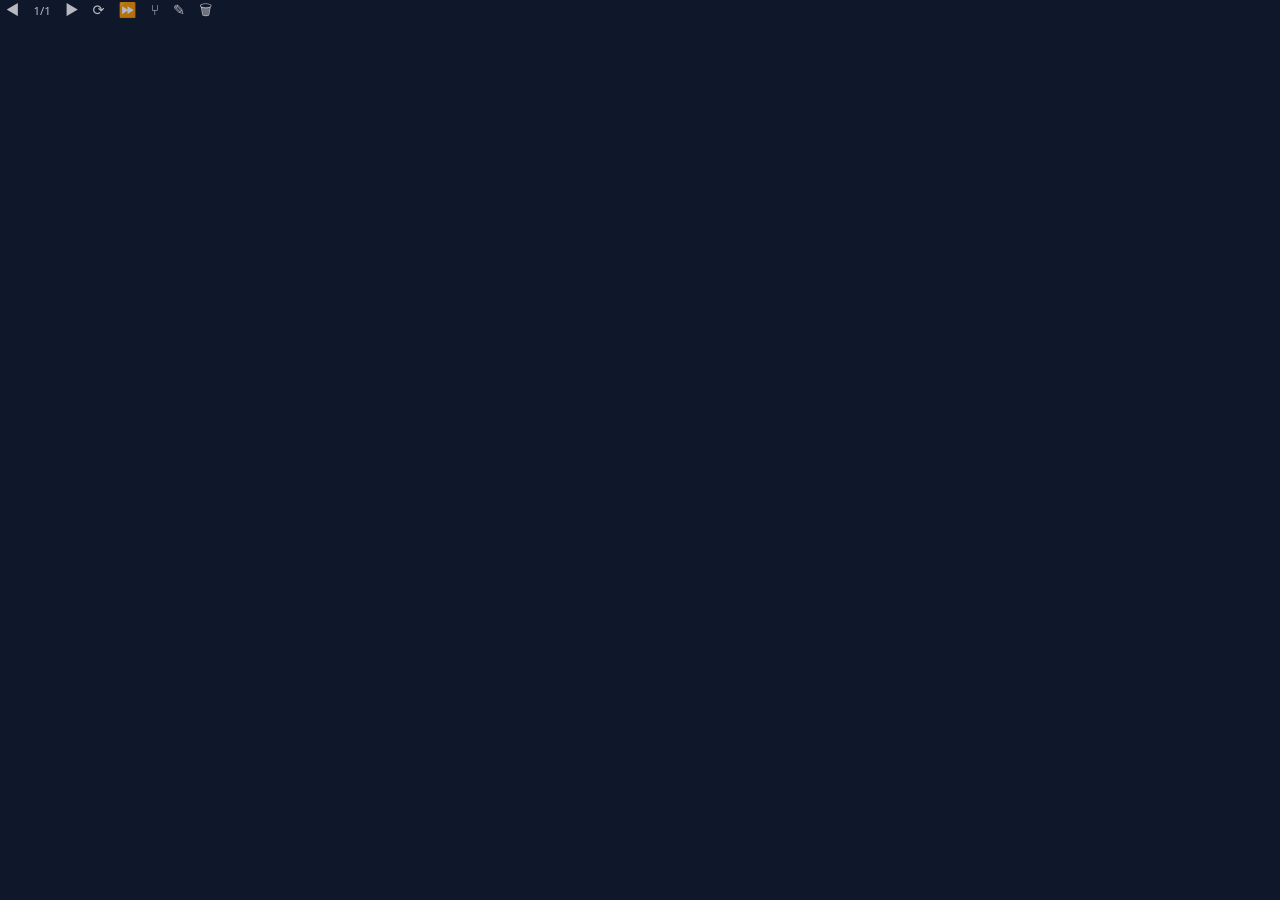
Test: MessageActions regen critique › hides the field until Regen is clicked
The image size is (1280, 900).
Step 1. Click the button titled "Regenerate" → (98, 10), box [86, 1, 110, 19]
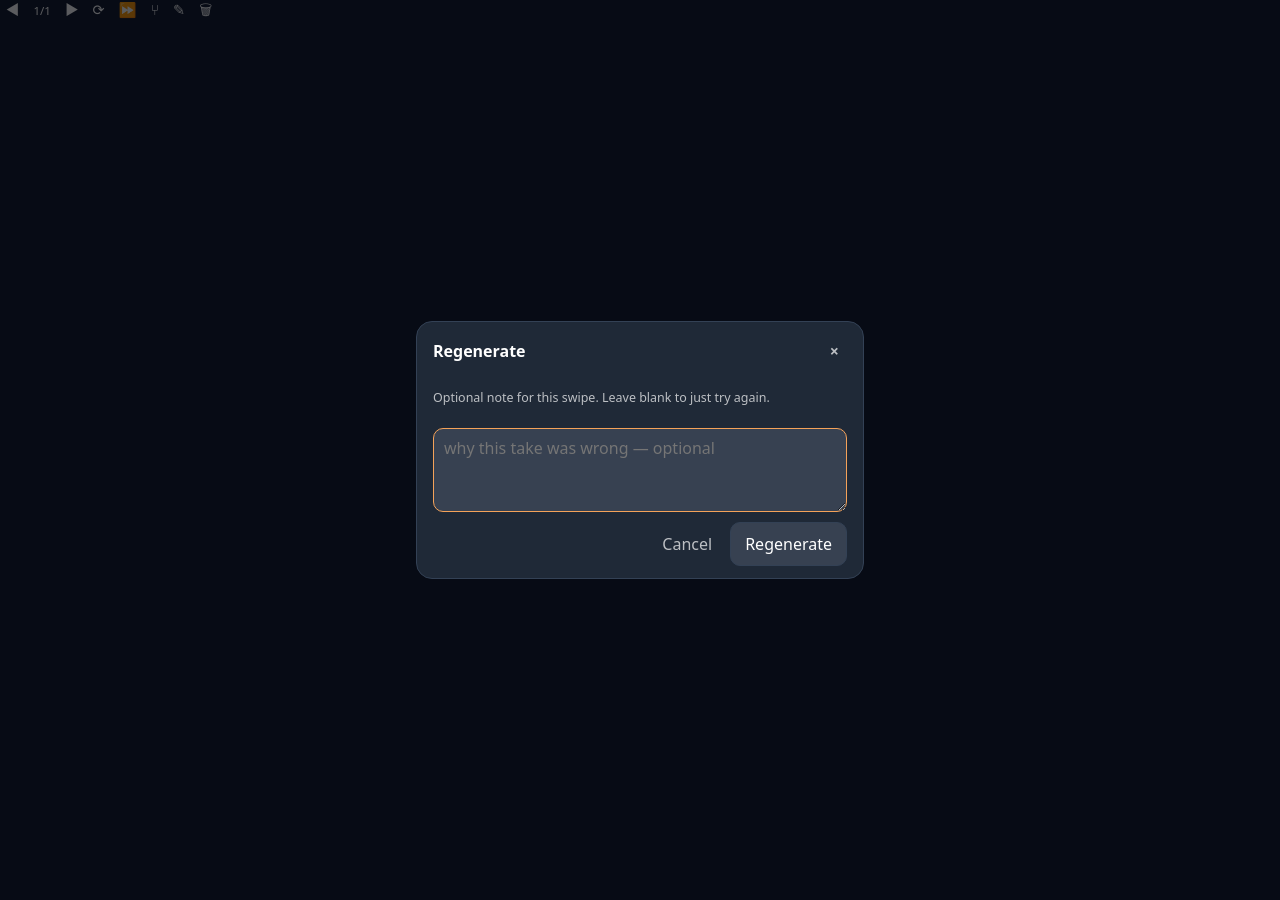
Expected: the text box with test id "regen-critique-field" is shown, [433, 428, 847, 512]
